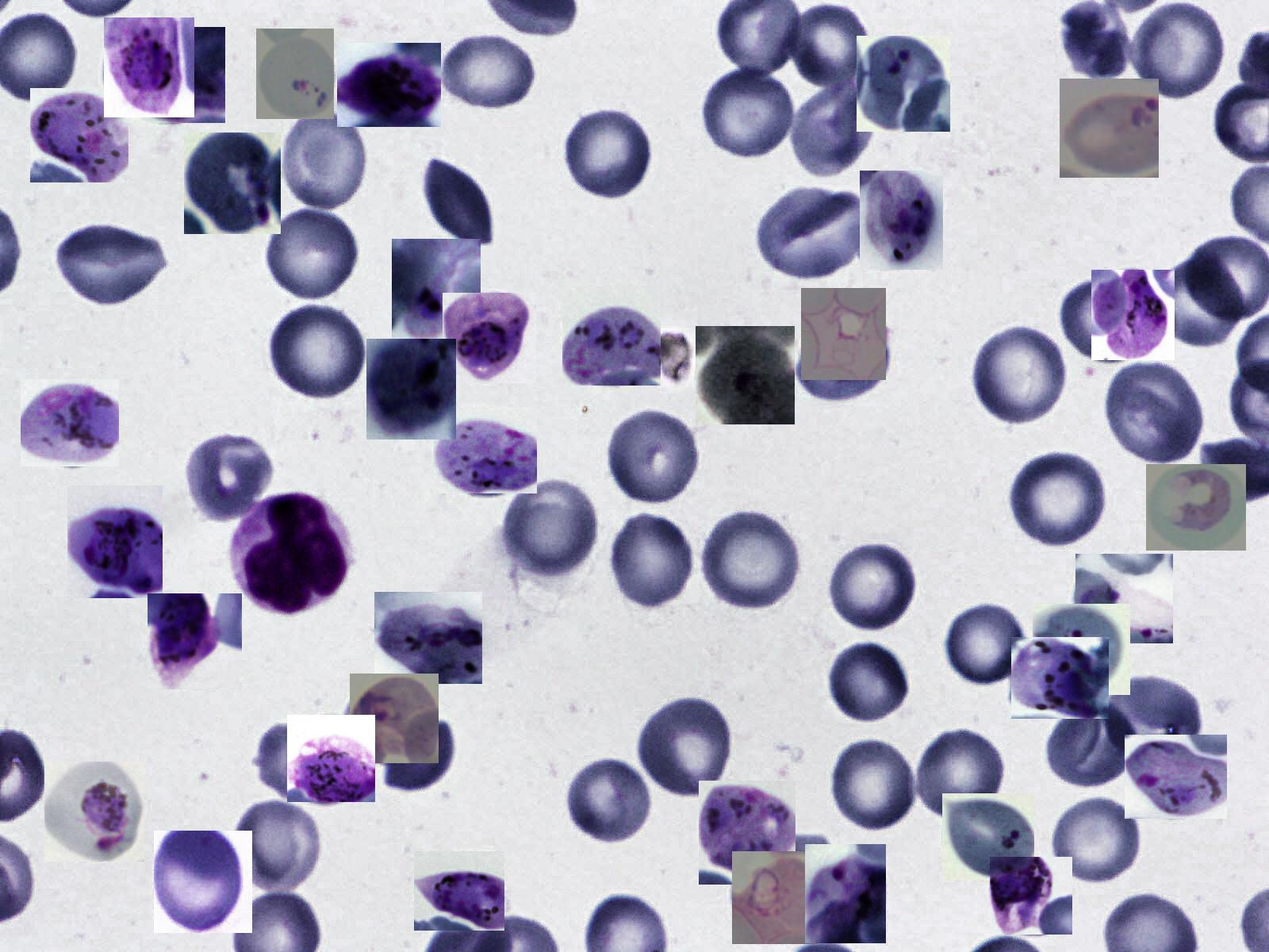Infected: (224, 492, 351, 619), (67, 486, 163, 598), (699, 781, 796, 885), (44, 762, 144, 862), (154, 831, 252, 933), (374, 592, 482, 684), (562, 286, 661, 386), (184, 132, 281, 234), (1060, 79, 1159, 178), (696, 326, 795, 424), (128, 27, 225, 123), (31, 88, 128, 182), (366, 339, 456, 440), (148, 593, 242, 689), (104, 17, 194, 117), (392, 239, 481, 340), (433, 407, 537, 493), (857, 36, 950, 132), (1033, 605, 1130, 696), (337, 43, 441, 127), (1075, 554, 1173, 643), (1146, 464, 1246, 551), (1125, 735, 1227, 819), (21, 379, 119, 466), (443, 293, 536, 383), (860, 171, 943, 270), (942, 793, 1034, 881), (732, 851, 819, 944), (1011, 637, 1109, 719), (805, 844, 886, 943), (350, 674, 439, 763), (801, 288, 886, 380), (287, 715, 375, 802), (1091, 270, 1175, 360), (414, 851, 504, 931), (256, 29, 334, 119), (990, 857, 1072, 935)
Uninfected: (755, 181, 871, 283), (634, 692, 739, 800), (1102, 361, 1206, 470), (697, 506, 803, 611), (496, 475, 600, 579), (1006, 446, 1109, 550), (48, 220, 171, 306), (263, 302, 369, 400), (969, 324, 1068, 426), (277, 106, 372, 211), (603, 405, 705, 502), (264, 203, 362, 302), (1125, 5, 1226, 100), (1102, 674, 1210, 761), (560, 106, 657, 202), (823, 538, 922, 632), (607, 509, 696, 612), (827, 735, 921, 832), (232, 796, 324, 895), (1047, 793, 1146, 884), (918, 725, 1006, 827), (183, 428, 278, 522), (696, 65, 794, 156), (788, 79, 874, 179), (1152, 259, 1249, 347), (755, 835, 844, 930), (1047, 701, 1139, 792), (791, 322, 888, 405), (437, 33, 539, 109), (1060, 277, 1146, 367), (253, 719, 341, 804), (416, 155, 496, 248), (566, 760, 654, 844), (941, 600, 1027, 684), (788, 6, 871, 90), (826, 643, 910, 723), (383, 719, 454, 789)
